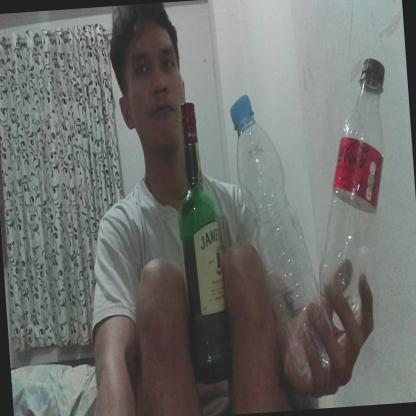objects: (171, 101, 236, 384)
plastic_bottles: (229, 92, 334, 380), (304, 58, 402, 320)
